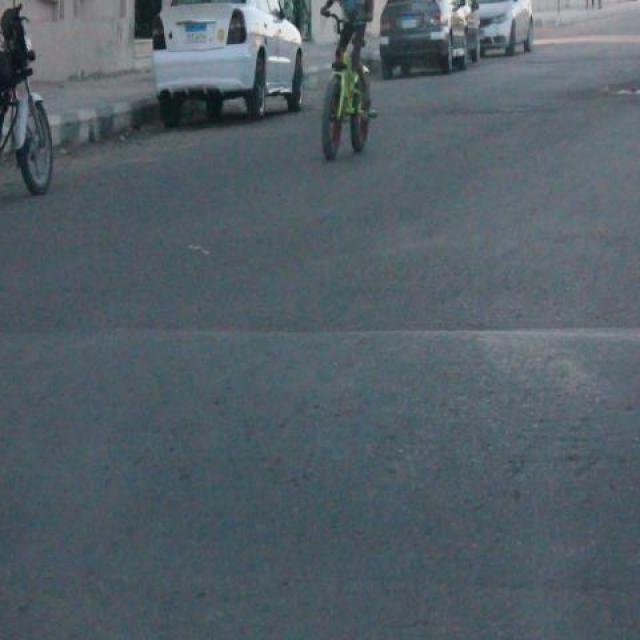Pothole: (602, 74, 640, 106)
Unmarked Bump: (0, 320, 640, 600)
